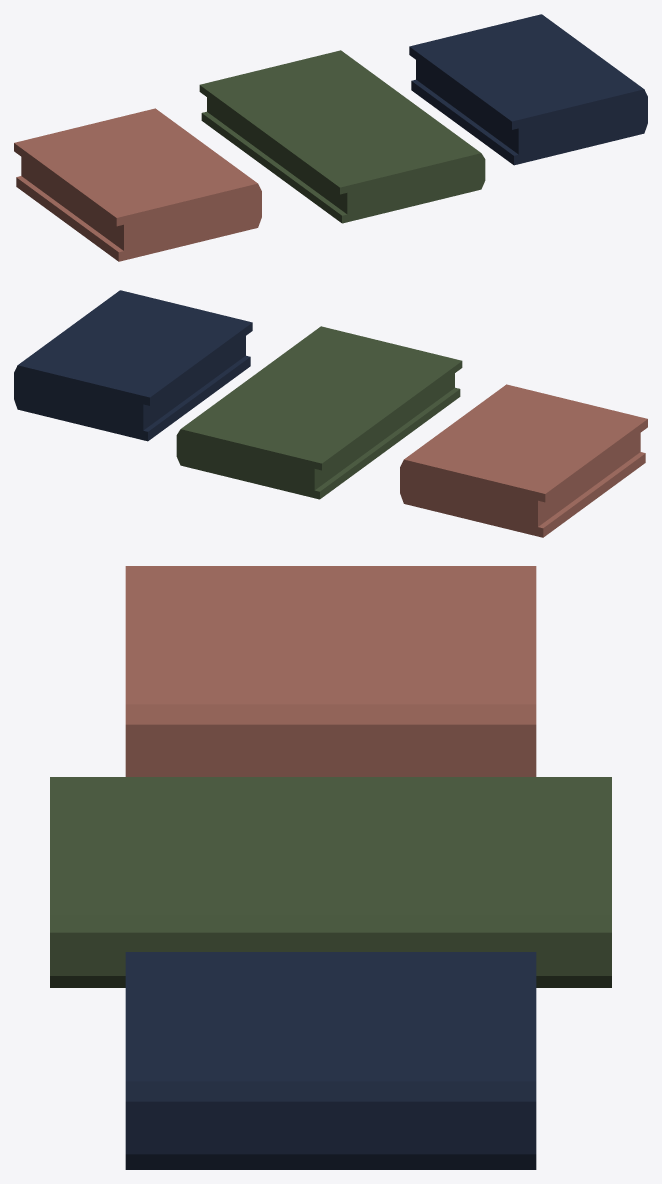
Rendered from BOOKS.fbx.
The picture shows the model from 3 angles, top to bottom: view 1: azimuth 30°, elevation 25°; view 2: azimuth 150°, elevation 25°; view 3: azimuth 270°, elevation 25°; orthographic projection. The views are drawn at different scales.
Parts seen in each view (by area): view 1: Plane.014, Plane.012, Plane.017; view 2: Plane.014, Plane.012, Plane.017; view 3: Plane.014, Plane.017, Plane.012.
Boxes of the visible parts, x1,y1,x2,y2 form: Plane.014: (199, 50, 485, 223); Plane.012: (14, 108, 261, 261); Plane.017: (409, 14, 647, 165); Plane.014: (176, 326, 462, 499); Plane.012: (400, 384, 647, 537); Plane.017: (14, 290, 252, 441); Plane.014: (50, 777, 611, 987); Plane.017: (125, 952, 536, 1169); Plane.012: (125, 566, 536, 776).
Bounding box in the file's own units: 598 × 47.66 × 274.
